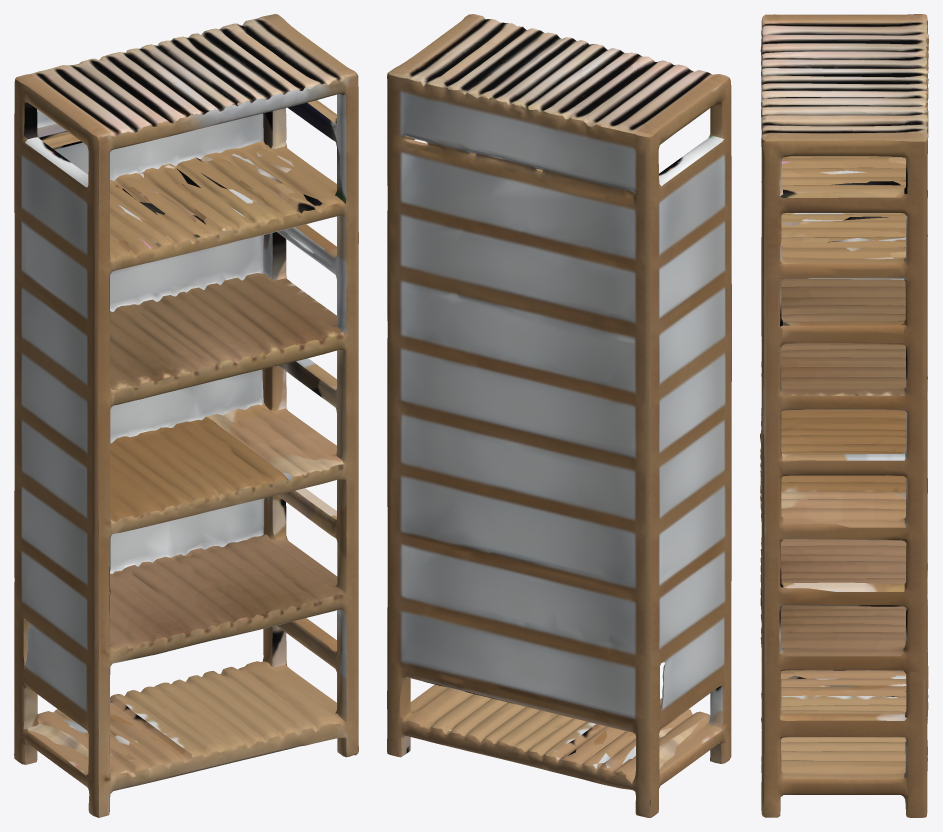
Rendered from shelf__shelf#2.glb.
3 views of the same model, side by side, from view 1: azimuth 30°, elevation 25°; view 2: azimuth 150°, elevation 25°; view 3: azimuth 270°, elevation 25° (orthographic).
Parts seen in each view (by area): view 1: tmpn1tyy580.ply; view 2: tmpn1tyy580.ply; view 3: tmpn1tyy580.ply.
Part boxes in pixels (x1,y1,x2,y2): tmpn1tyy580.ply: [14, 14, 358, 817]; tmpn1tyy580.ply: [387, 14, 731, 817]; tmpn1tyy580.ply: [760, 14, 928, 817].
Bounding box in the file's own units: 0.8082 × 1.99 × 0.4486.
1 material, 1 textured.
